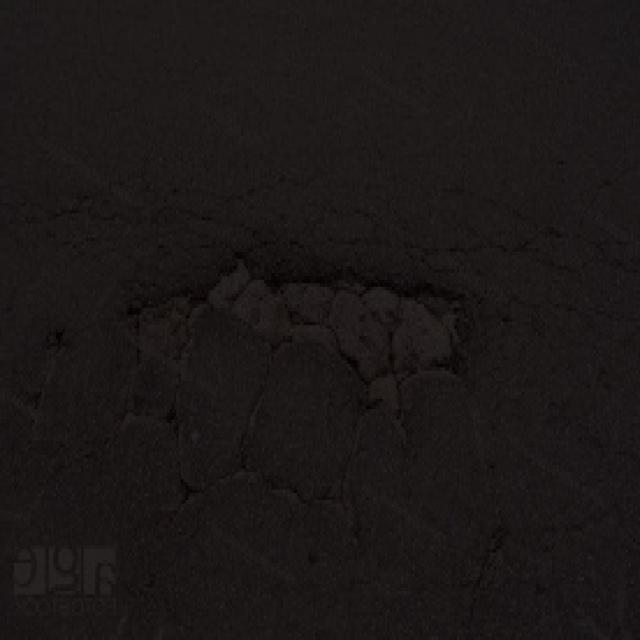Pothole: (175, 239, 475, 427)
